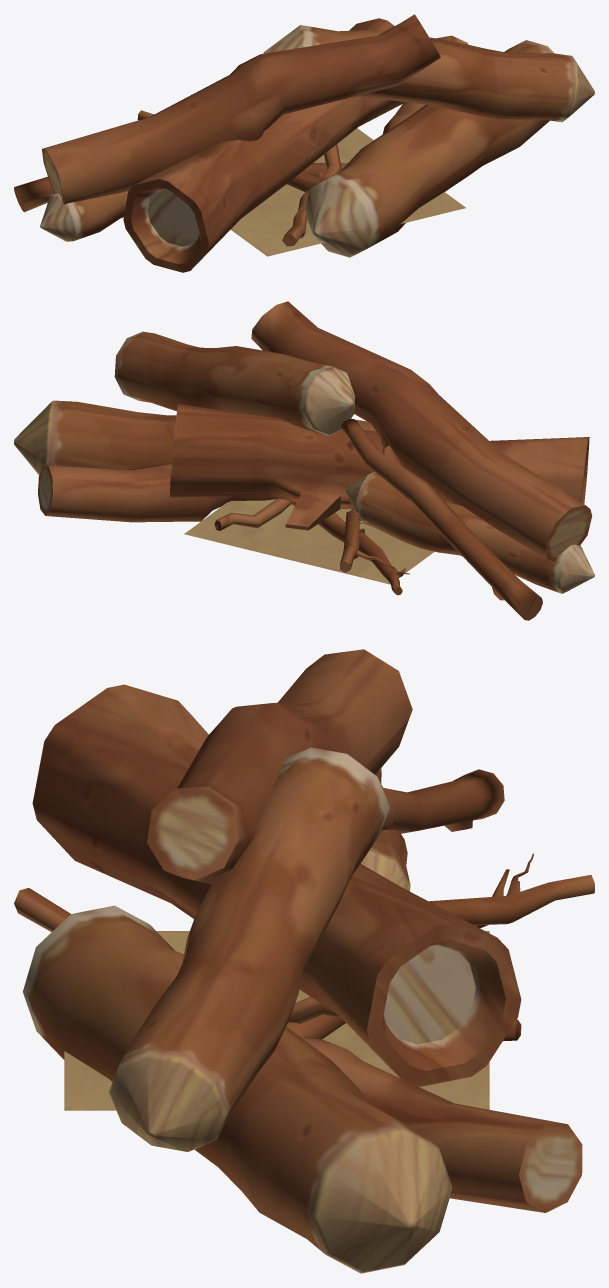
File: DammDirt.fbx
3 renders of one model, top to bottom at view 1: azimuth 30°, elevation 25°; view 2: azimuth 150°, elevation 25°; view 3: azimuth 270°, elevation 25°, orthographic. The views are drawn at different scales.
Visible parts, largest first — view 1: Dam; view 2: Dam; view 3: Dam.
Boxes of the visible parts, left/top/right/bottom form: Dam: left=14, top=14, right=594, bottom=272; Dam: left=14, top=301, right=594, bottom=620; Dam: left=14, top=649, right=594, bottom=1273.
Bounding box in the file's own units: 271 × 92.17 × 137.
